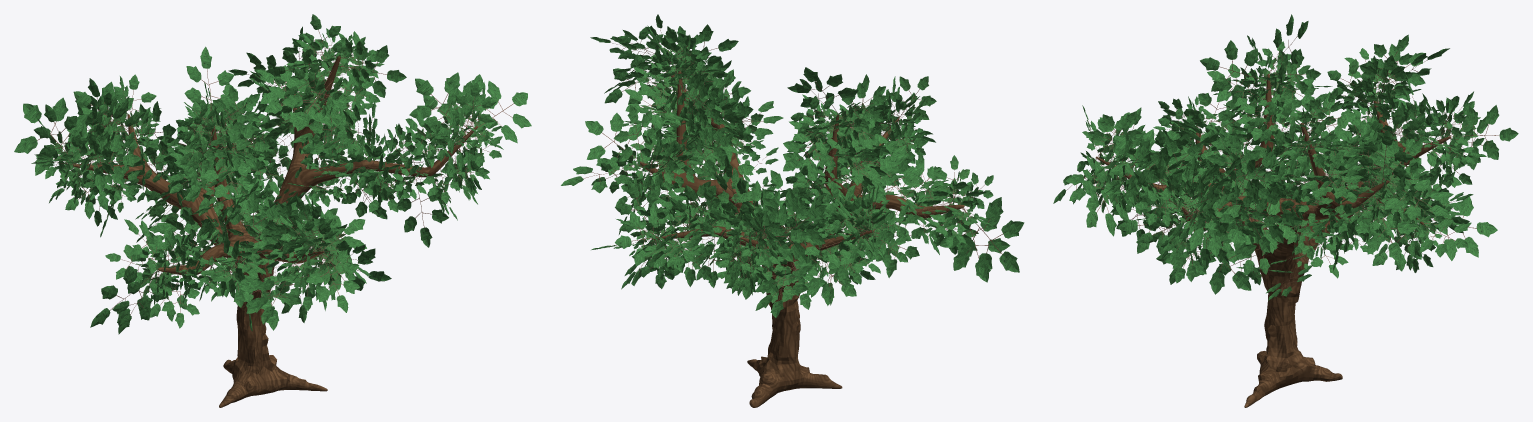
Rendered from Baum02.fbx.
3 renders of one model, left to right at view 1: azimuth 30°, elevation 25°; view 2: azimuth 150°, elevation 25°; view 3: azimuth 270°, elevation 25°, orthographic.
Visible parts, largest first — view 1: Cube, Cube|Leaves|Dupli|583.0.0.0.0.0.0.0.0.0, Cube|Leaves|Dupli|229.0.0.0.0.0.0.0.0.0, Cube|Leaves|Dupli|138.0.0.0.0.0.0.0.0.0, Cube|Leaves|Dupli|58.0.0.0.0.0.0.0.0.0, Cube|Leaves|Dupli|509.0.0.0.0.0.0.0.0.0, Cube|Leaves|Dupli|193.0.0.0.0.0.0.0.0.0, Cube|Leaves|Dupli|652.0.0.0.0.0.0.0.0.0, Cube|Leaves|Dupli|176.0.0.0.0.0.0.0.0.0, Cube|Leaves|Dupli|55.0.0.0.0.0.0.0.0.0, Cube|Leaves|Dupli|620.0.0.0.0.0.0.0.0.0, Cube|Leaves|Dupli|674.0.0.0.0.0.0.0.0.0 (+32 smaller); view 2: Cube, Cube|Leaves|Dupli|138.0.0.0.0.0.0.0.0.0, Cube|Leaves|Dupli|256.0.0.0.0.0.0.0.0.0, Cube|Leaves|Dupli|123.0.0.0.0.0.0.0.0.0, Cube|Leaves|Dupli|642.0.0.0.0.0.0.0.0.0, Cube|Leaves|Dupli|56.0.0.0.0.0.0.0.0.0, Cube|Leaves|Dupli|321.0.0.0.0.0.0.0.0.0, Cube|Leaves|Dupli|58.0.0.0.0.0.0.0.0.0, Cube|Leaves|Dupli|604.0.0.0.0.0.0.0.0.0, Cube|Leaves|Dupli|269.0.0.0.0.0.0.0.0.0, Cube|Leaves|Dupli|119.0.0.0.0.0.0.0.0.0, Cube|Leaves|Dupli|408.0.0.0.0.0.0.0.0.0 (+28 smaller); view 3: Cube, Cube|Leaves|Dupli|23.0.0.0.0.0.0.0.0.0, Cube|Leaves|Dupli|492.0.0.0.0.0.0.0.0.0, Cube|Leaves|Dupli|184.0.0.0.0.0.0.0.0.0, Cube|Leaves|Dupli|57.0.0.0.0.0.0.0.0.0, Cube|Leaves|Dupli|408.0.0.0.0.0.0.0.0.0, Cube|Leaves|Dupli|341.0.0.0.0.0.0.0.0.0, Cube|Leaves|Dupli|113.0.0.0.0.0.0.0.0.0, Cube|Leaves|Dupli|627.0.0.0.0.0.0.0.0.0, Cube|Leaves|Dupli|381.0.0.0.0.0.0.0.0.0, Cube|Leaves|Dupli|510.0.0.0.0.0.0.0.0.0, Cube|Leaves|Dupli|119.0.0.0.0.0.0.0.0.0 (+41 smaller).
Part boxes in pixels (bbox=[...]): Cube: bbox=[73, 55, 477, 407]; Cube|Leaves|Dupli|583.0.0.0.0.0.0.0.0.0: bbox=[14, 97, 87, 175]; Cube|Leaves|Dupli|229.0.0.0.0.0.0.0.0.0: bbox=[221, 191, 286, 262]; Cube|Leaves|Dupli|138.0.0.0.0.0.0.0.0.0: bbox=[90, 266, 157, 327]; Cube|Leaves|Dupli|58.0.0.0.0.0.0.0.0.0: bbox=[184, 46, 236, 121]; Cube|Leaves|Dupli|509.0.0.0.0.0.0.0.0.0: bbox=[409, 72, 480, 138]; Cube|Leaves|Dupli|193.0.0.0.0.0.0.0.0.0: bbox=[397, 179, 448, 247]; Cube|Leaves|Dupli|652.0.0.0.0.0.0.0.0.0: bbox=[339, 41, 406, 97]; Cube|Leaves|Dupli|176.0.0.0.0.0.0.0.0.0: bbox=[477, 81, 531, 143]; Cube|Leaves|Dupli|55.0.0.0.0.0.0.0.0.0: bbox=[34, 104, 87, 164]; Cube|Leaves|Dupli|620.0.0.0.0.0.0.0.0.0: bbox=[249, 264, 307, 324]; Cube|Leaves|Dupli|674.0.0.0.0.0.0.0.0.0: bbox=[78, 134, 141, 192]; Cube: bbox=[640, 60, 964, 407]; Cube|Leaves|Dupli|138.0.0.0.0.0.0.0.0.0: bbox=[957, 197, 1024, 277]; Cube|Leaves|Dupli|256.0.0.0.0.0.0.0.0.0: bbox=[765, 189, 826, 263]; Cube|Leaves|Dupli|123.0.0.0.0.0.0.0.0.0: bbox=[585, 113, 642, 175]; Cube|Leaves|Dupli|642.0.0.0.0.0.0.0.0.0: bbox=[940, 208, 1010, 282]; Cube|Leaves|Dupli|56.0.0.0.0.0.0.0.0.0: bbox=[755, 261, 812, 317]; Cube|Leaves|Dupli|321.0.0.0.0.0.0.0.0.0: bbox=[670, 185, 727, 237]; Cube|Leaves|Dupli|58.0.0.0.0.0.0.0.0.0: bbox=[787, 67, 858, 113]; Cube|Leaves|Dupli|604.0.0.0.0.0.0.0.0.0: bbox=[615, 208, 673, 268]; Cube|Leaves|Dupli|269.0.0.0.0.0.0.0.0.0: bbox=[745, 205, 810, 268]; Cube|Leaves|Dupli|119.0.0.0.0.0.0.0.0.0: bbox=[613, 105, 659, 162]; Cube|Leaves|Dupli|408.0.0.0.0.0.0.0.0.0: bbox=[561, 158, 638, 193]; Cube: bbox=[1095, 73, 1451, 407]; Cube|Leaves|Dupli|23.0.0.0.0.0.0.0.0.0: bbox=[1200, 40, 1266, 103]; Cube|Leaves|Dupli|492.0.0.0.0.0.0.0.0.0: bbox=[1194, 222, 1256, 294]; Cube|Leaves|Dupli|184.0.0.0.0.0.0.0.0.0: bbox=[1244, 180, 1302, 244]; Cube|Leaves|Dupli|57.0.0.0.0.0.0.0.0.0: bbox=[1451, 105, 1518, 166]; Cube|Leaves|Dupli|408.0.0.0.0.0.0.0.0.0: bbox=[1384, 180, 1453, 220]; Cube|Leaves|Dupli|341.0.0.0.0.0.0.0.0.0: bbox=[1424, 196, 1497, 260]; Cube|Leaves|Dupli|113.0.0.0.0.0.0.0.0.0: bbox=[1355, 194, 1417, 262]; Cube|Leaves|Dupli|627.0.0.0.0.0.0.0.0.0: bbox=[1081, 160, 1128, 236]; Cube|Leaves|Dupli|381.0.0.0.0.0.0.0.0.0: bbox=[1100, 131, 1159, 204]; Cube|Leaves|Dupli|510.0.0.0.0.0.0.0.0.0: bbox=[1185, 199, 1247, 256]; Cube|Leaves|Dupli|119.0.0.0.0.0.0.0.0.0: bbox=[1354, 130, 1413, 184].
Size of the model in its own units: 1049 by 790 by 970.
